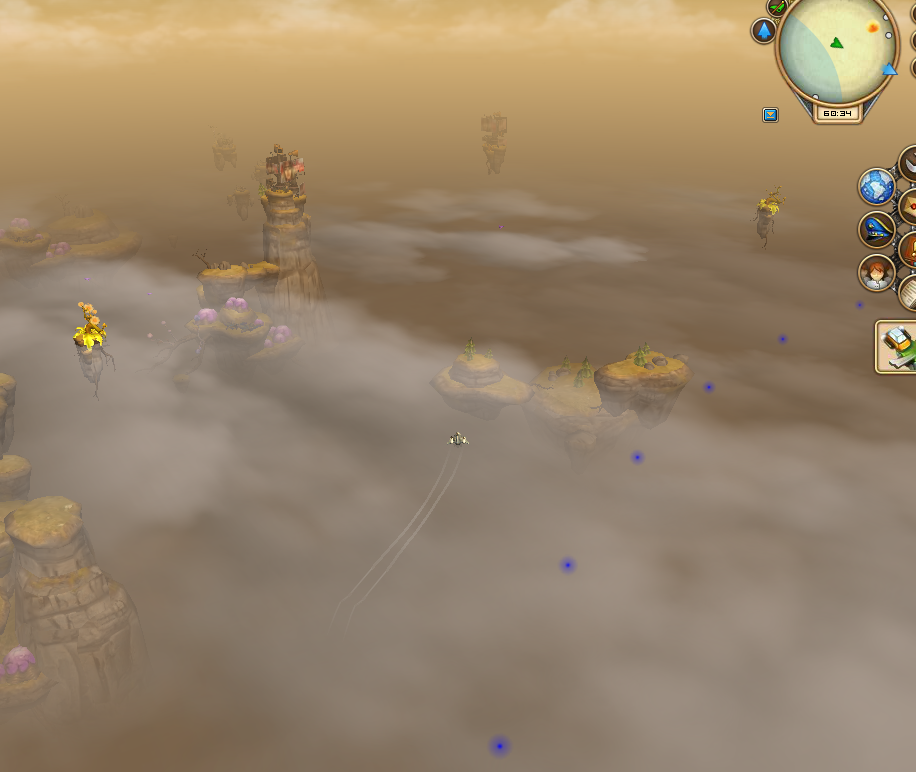dandelion-empty: (748, 176, 792, 254)
dandelion-full: (66, 297, 114, 381)
